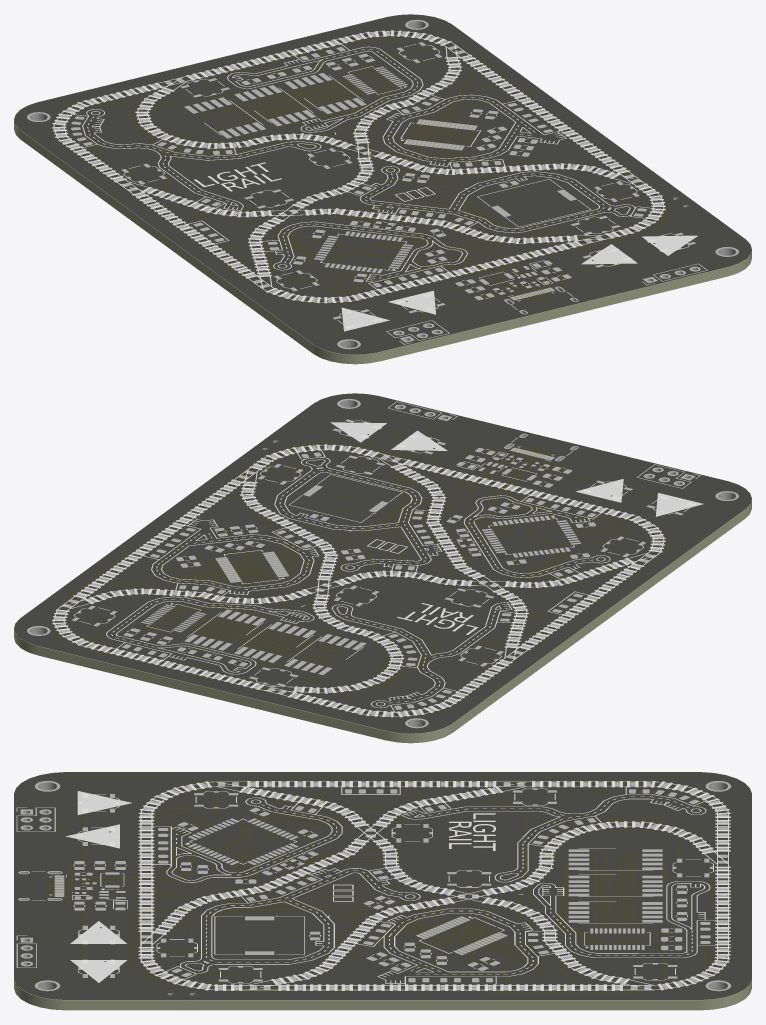
File: light-rail.glb
3 renders of one model, top to bottom at view 1: azimuth 30°, elevation 25°; view 2: azimuth 150°, elevation 25°; view 3: azimuth 270°, elevation 25°, orthographic. The views are drawn at different scales.
Parts seen in each view (by area): view 1: =>[0:1:1:7], =>[0:1:1:9], =>[0:1:1:5], =>[0:1:1:2]; view 2: =>[0:1:1:7], =>[0:1:1:9], =>[0:1:1:5], =>[0:1:1:2]; view 3: =>[0:1:1:7], =>[0:1:1:9], =>[0:1:1:5], =>[0:1:1:2].
Part boxes in pixels (left/top/right/bottom): =>[0:1:1:7]: left=14, top=14, right=751, bottom=354; =>[0:1:1:9]: left=14, top=15, right=751, bottom=364; =>[0:1:1:5]: left=52, top=30, right=707, bottom=344; =>[0:1:1:2]: left=27, top=20, right=738, bottom=349; =>[0:1:1:7]: left=14, top=393, right=751, bottom=733; =>[0:1:1:9]: left=14, top=394, right=751, bottom=743; =>[0:1:1:5]: left=52, top=401, right=703, bottom=717; =>[0:1:1:2]: left=27, top=399, right=738, bottom=728; =>[0:1:1:7]: left=14, top=772, right=751, bottom=999; =>[0:1:1:9]: left=14, top=773, right=751, bottom=1010; =>[0:1:1:5]: left=16, top=781, right=730, bottom=1010; =>[0:1:1:2]: left=18, top=780, right=731, bottom=992.
Bounding box in the file's own units: 0.0734 × 0.00166 × 0.1005.
Materials: 4 (4 with a texture image).
